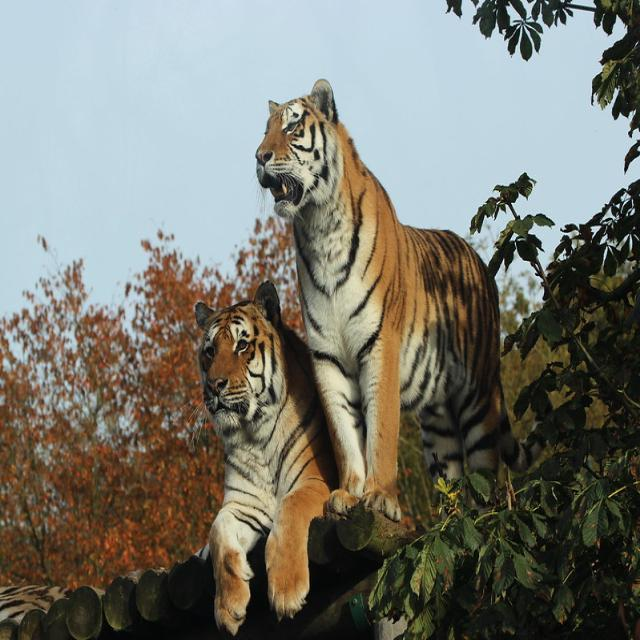Tiger: (252, 77, 534, 516), (192, 278, 328, 639)
